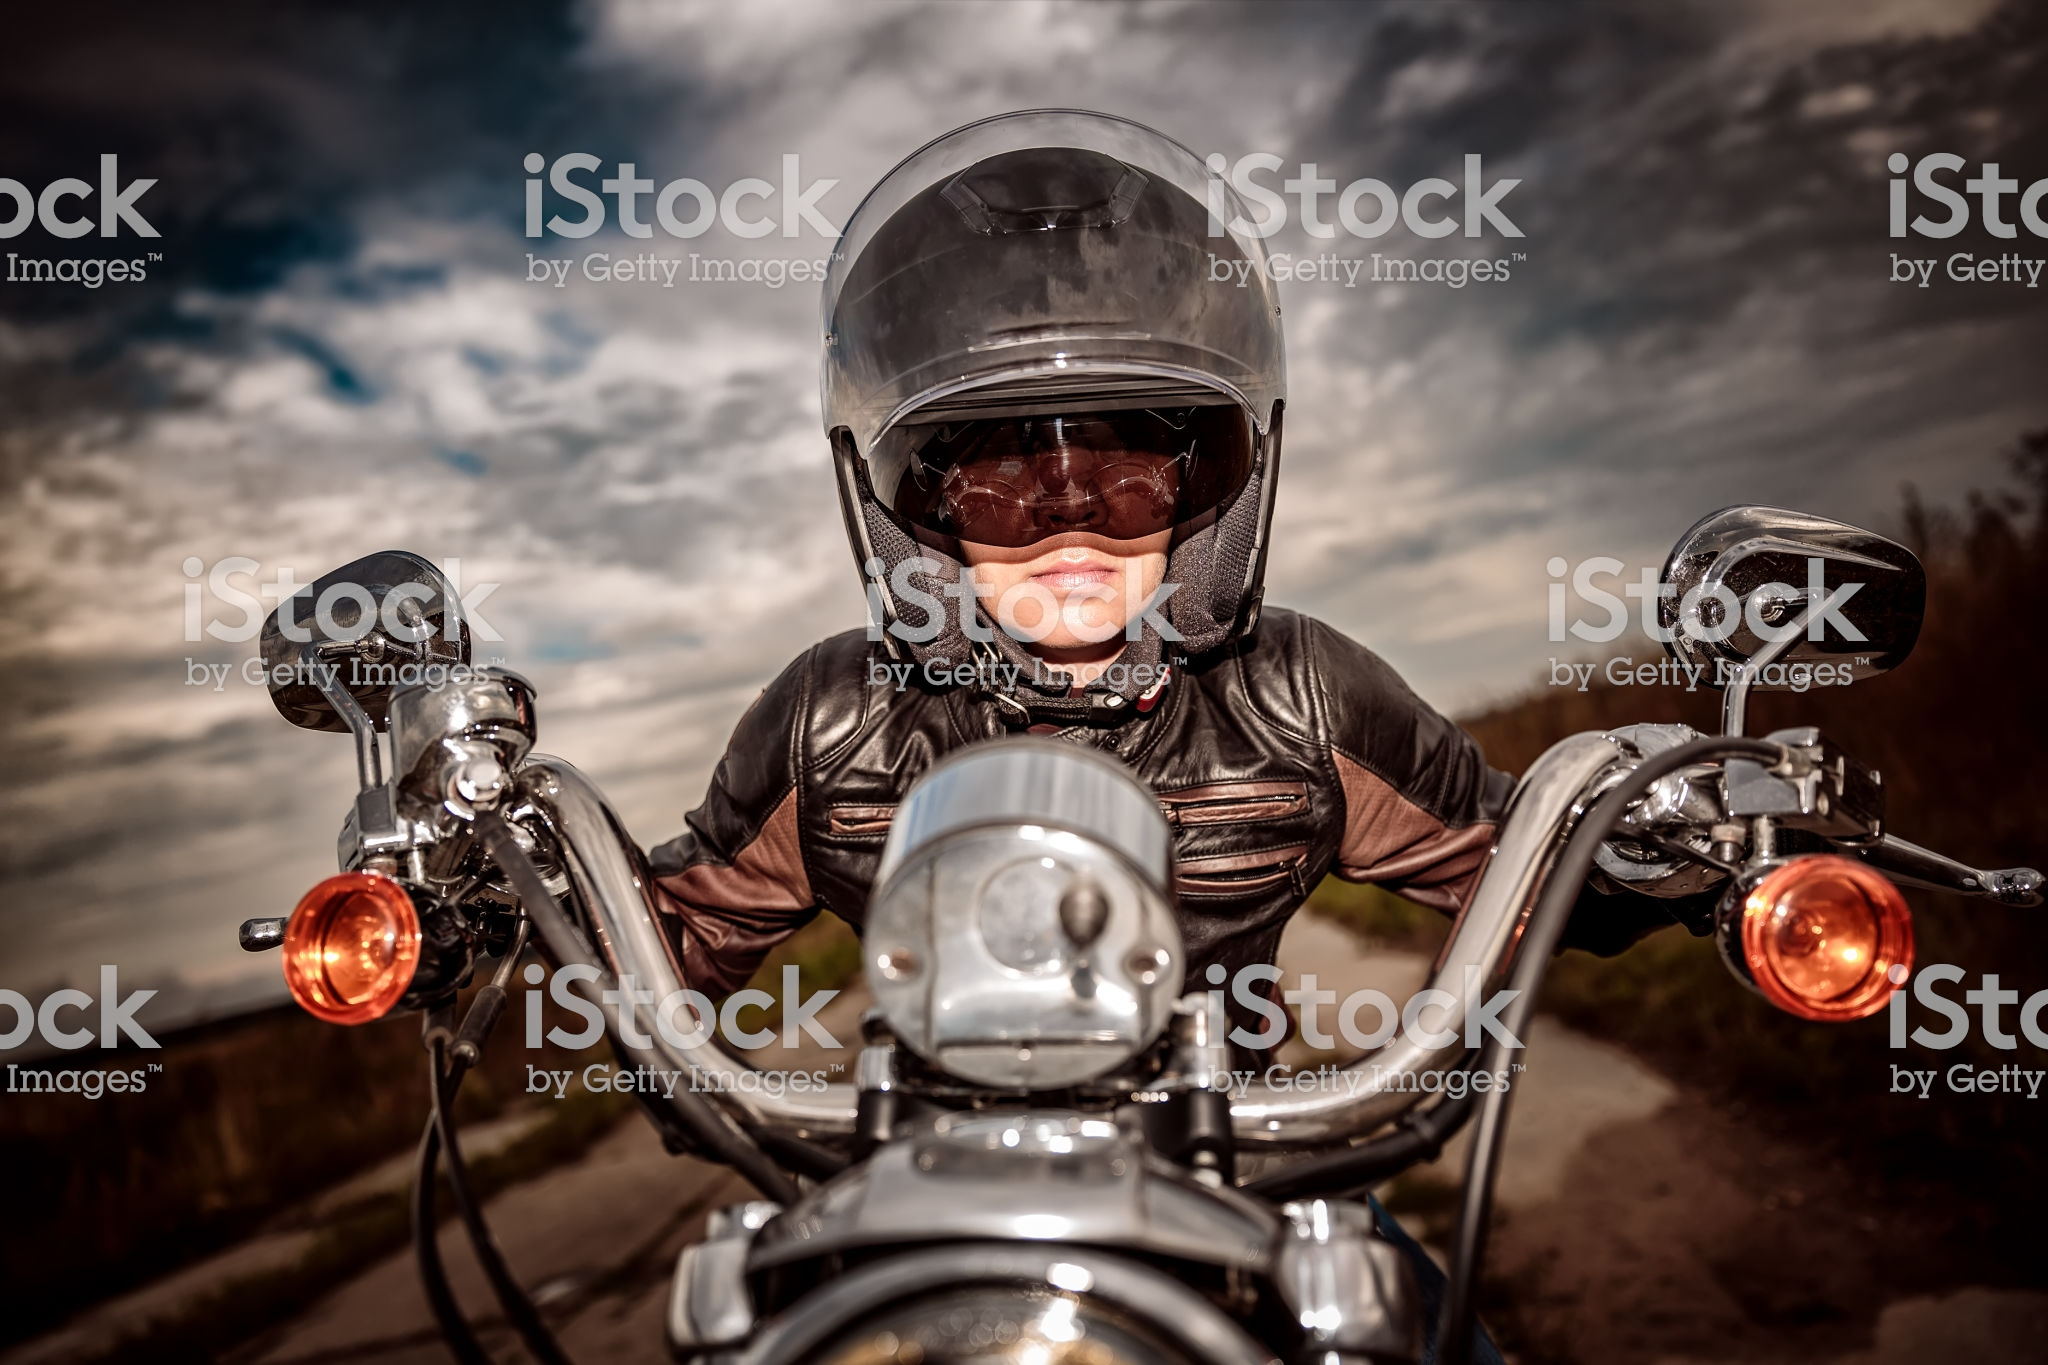helmet: (798, 174, 1331, 634)
